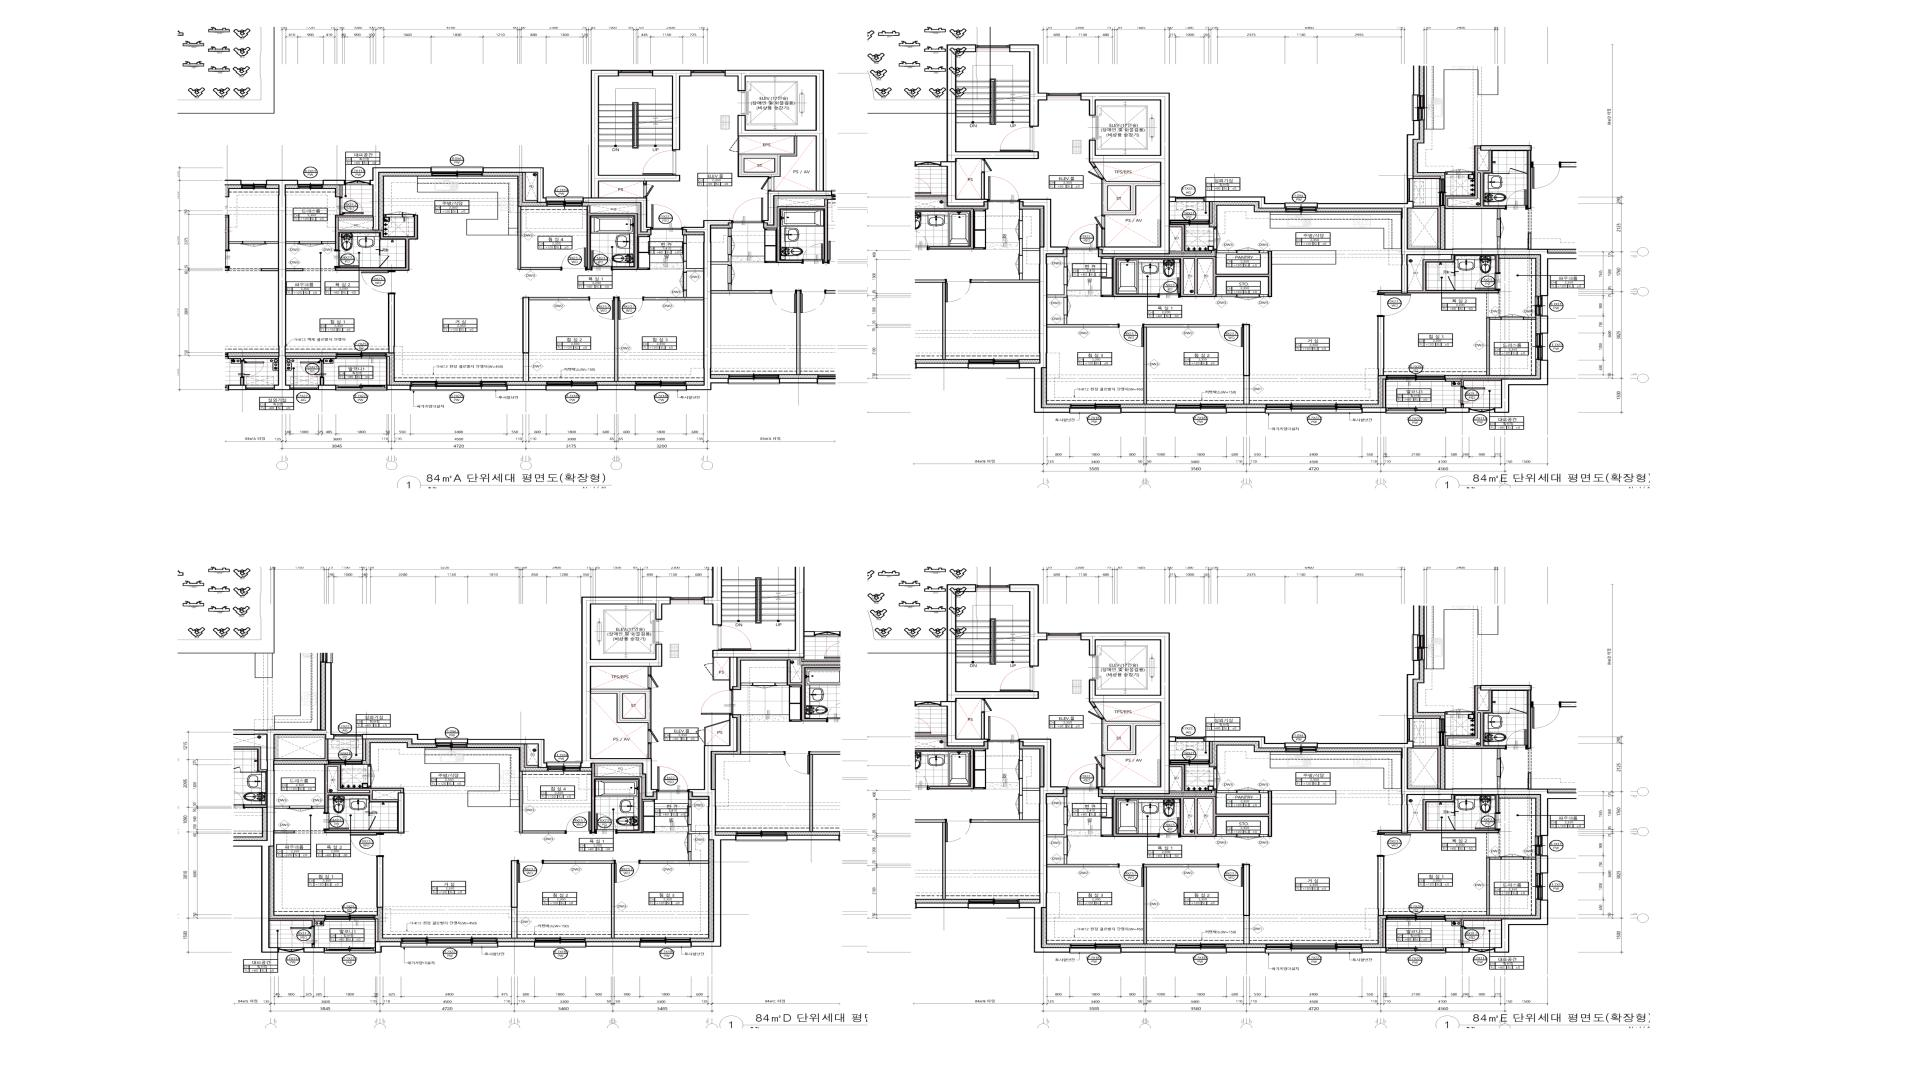door: (642, 150, 676, 175), (1000, 127, 1034, 152), (651, 202, 682, 229), (657, 766, 688, 793), (719, 625, 752, 650), (1377, 833, 1411, 857), (1000, 667, 1034, 691), (1068, 764, 1098, 790), (351, 833, 384, 857), (361, 272, 396, 294), (1377, 294, 1411, 316), (1068, 224, 1098, 249), (617, 297, 645, 320), (1118, 864, 1145, 887), (615, 860, 641, 884), (517, 860, 543, 884), (1217, 864, 1242, 887), (589, 297, 615, 320), (1118, 324, 1145, 347), (564, 811, 591, 833), (562, 248, 587, 270), (1217, 324, 1242, 347), (323, 812, 349, 831), (1461, 926, 1486, 944), (334, 249, 359, 268), (1461, 386, 1486, 405), (1158, 818, 1180, 837), (1158, 278, 1180, 298), (595, 814, 617, 833), (1476, 812, 1501, 829), (339, 198, 364, 215), (1476, 273, 1501, 290), (290, 927, 315, 944), (591, 251, 612, 270), (299, 361, 323, 377), (1087, 707, 1105, 721), (1087, 167, 1105, 182), (729, 136, 740, 154), (1213, 227, 1221, 251), (1213, 767, 1221, 790), (1093, 754, 1105, 769), (1093, 215, 1105, 229), (981, 158, 993, 173), (644, 182, 654, 198), (981, 699, 993, 712), (647, 729, 658, 744), (761, 177, 771, 191), (368, 765, 375, 787), (1502, 853, 1524, 860), (1237, 787, 1259, 794), (1237, 294, 1259, 301), (1502, 314, 1524, 320), (290, 806, 313, 812), (647, 675, 658, 688), (378, 255, 389, 268), (1237, 835, 1259, 840), (299, 241, 322, 247), (1237, 248, 1259, 253), (1448, 815, 1456, 829), (1448, 276, 1456, 290), (368, 815, 376, 829)
wall: (1316, 742, 1548, 836), (1316, 203, 1548, 297), (582, 596, 671, 796), (725, 70, 832, 225), (261, 731, 335, 953), (583, 70, 680, 232), (1080, 632, 1176, 794), (1080, 92, 1176, 255), (945, 584, 1039, 746), (945, 45, 1039, 207), (712, 543, 804, 690), (688, 715, 737, 947), (1019, 738, 1071, 953), (1019, 199, 1071, 413), (682, 220, 733, 390), (1113, 791, 1273, 837), (1113, 251, 1273, 297), (266, 179, 298, 390), (1143, 864, 1217, 945), (1143, 324, 1217, 405), (522, 297, 589, 381), (543, 861, 615, 938), (335, 215, 418, 272), (369, 167, 431, 231), (324, 765, 404, 812), (591, 764, 642, 833), (1407, 795, 1498, 833), (1407, 256, 1498, 294), (587, 206, 638, 270), (651, 70, 691, 150), (1009, 584, 1047, 666), (704, 543, 742, 625), (1009, 45, 1047, 127), (520, 771, 566, 833), (1494, 901, 1548, 953), (1494, 360, 1548, 413), (518, 207, 562, 270), (591, 688, 651, 729), (467, 738, 547, 767), (483, 167, 546, 203), (1101, 719, 1160, 754), (1101, 179, 1160, 215), (1170, 764, 1212, 794), (1170, 224, 1212, 253), (274, 740, 328, 761), (326, 767, 369, 793), (1204, 737, 1286, 749), (1204, 196, 1286, 208), (1047, 855, 1118, 868), (1486, 316, 1502, 376), (1047, 315, 1118, 328), (1486, 857, 1502, 915), (641, 852, 708, 864), (361, 735, 436, 745), (1242, 864, 1250, 944), (1242, 324, 1250, 405), (704, 720, 729, 745), (510, 860, 518, 939), (645, 290, 704, 301), (1197, 258, 1213, 294), (622, 694, 645, 719), (1197, 799, 1213, 833), (522, 173, 537, 203), (376, 857, 384, 907), (388, 294, 394, 353), (712, 658, 729, 680), (615, 298, 618, 381), (524, 745, 538, 767), (397, 793, 405, 833), (375, 942, 401, 953), (1461, 378, 1501, 386), (1378, 316, 1383, 376), (1378, 857, 1383, 915), (269, 919, 314, 926), (324, 829, 398, 833), (585, 942, 641, 947), (1121, 948, 1175, 953), (1121, 407, 1175, 413), (286, 356, 336, 361), (1461, 919, 1501, 926), (1047, 824, 1067, 837), (1226, 947, 1266, 953), (1047, 285, 1067, 298), (683, 261, 703, 273), (506, 385, 547, 390), (1226, 407, 1266, 413), (497, 942, 535, 947), (597, 385, 636, 390), (688, 825, 708, 835), (1445, 947, 1470, 953), (1362, 947, 1387, 953), (1540, 315, 1548, 334), (303, 947, 324, 953), (1540, 856, 1548, 873), (1445, 407, 1470, 413), (1362, 407, 1387, 413), (386, 385, 411, 390), (1382, 919, 1386, 948), (386, 356, 390, 385), (1382, 380, 1386, 407), (981, 712, 985, 738), (981, 173, 985, 199), (318, 385, 336, 390), (335, 215, 372, 218), (1378, 829, 1402, 833), (1378, 290, 1402, 294), (375, 919, 378, 942), (323, 181, 345, 185), (1209, 202, 1213, 224), (361, 740, 365, 761), (1209, 742, 1213, 764), (1495, 255, 1499, 273), (1101, 769, 1105, 786), (1495, 795, 1499, 812), (1101, 229, 1105, 247), (1445, 378, 1461, 382), (647, 744, 651, 758), (1216, 790, 1237, 793), (274, 831, 295, 833), (1216, 251, 1237, 253), (1217, 835, 1237, 837), (1217, 294, 1237, 297), (1524, 316, 1536, 320), (339, 186, 343, 198), (286, 269, 303, 272), (1445, 919, 1461, 922), (1089, 162, 1097, 167), (319, 377, 324, 385), (274, 806, 289, 808), (683, 235, 687, 244), (286, 241, 299, 244), (322, 241, 335, 244), (647, 667, 651, 675), (1524, 857, 1536, 860), (1101, 835, 1113, 837), (1089, 703, 1097, 707), (313, 806, 324, 808), (1064, 796, 1067, 807), (1064, 257, 1067, 268), (1259, 790, 1269, 793), (315, 919, 324, 922), (1259, 251, 1269, 253), (1259, 835, 1267, 837), (688, 799, 691, 807), (1259, 294, 1267, 297), (1101, 796, 1113, 798), (1101, 295, 1113, 297), (1101, 257, 1113, 258), (311, 944, 315, 947), (1461, 944, 1464, 947), (1461, 405, 1464, 407)
window: (401, 938, 497, 948), (1266, 404, 1362, 414), (411, 381, 506, 392), (1266, 944, 1362, 953), (534, 938, 585, 948), (431, 166, 483, 177), (1175, 404, 1226, 414), (636, 381, 686, 392), (1071, 404, 1121, 414), (641, 938, 691, 948), (547, 381, 596, 392), (1175, 944, 1226, 953), (1071, 944, 1121, 953), (1386, 915, 1445, 922), (1386, 375, 1445, 381), (546, 196, 583, 207), (1387, 947, 1445, 953), (1387, 407, 1445, 414), (1535, 873, 1548, 901), (1535, 334, 1548, 360), (324, 947, 375, 953), (336, 352, 386, 359), (336, 385, 386, 392), (324, 915, 375, 922), (547, 762, 582, 771), (1286, 742, 1316, 752), (1286, 203, 1316, 212), (436, 738, 467, 748), (1535, 836, 1548, 856), (1047, 92, 1080, 100), (1535, 297, 1548, 315), (1047, 633, 1080, 640), (976, 585, 1009, 592), (976, 45, 1009, 51), (742, 543, 775, 550), (671, 597, 704, 604), (1170, 219, 1209, 224), (298, 181, 323, 189), (328, 760, 363, 765), (1170, 760, 1209, 764), (290, 385, 318, 390), (1176, 196, 1204, 202), (335, 735, 361, 740), (280, 947, 303, 952), (1470, 407, 1494, 413), (1176, 737, 1204, 741), (1470, 948, 1494, 952), (345, 181, 369, 185)
